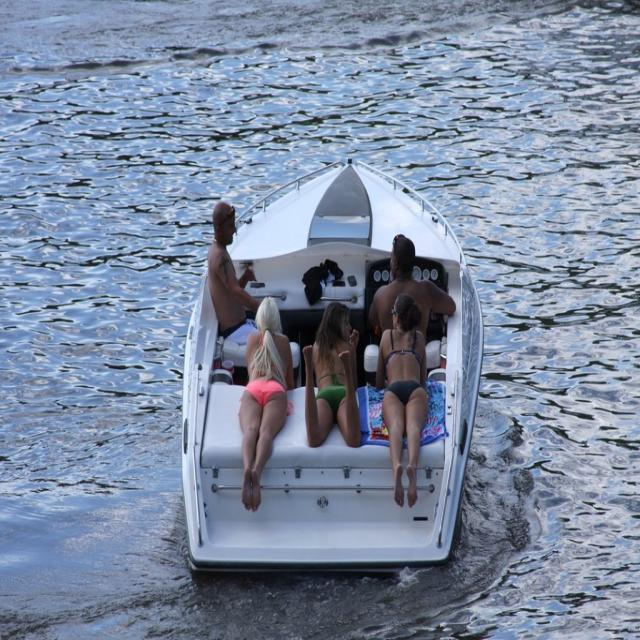Boat: (175, 138, 507, 572)
